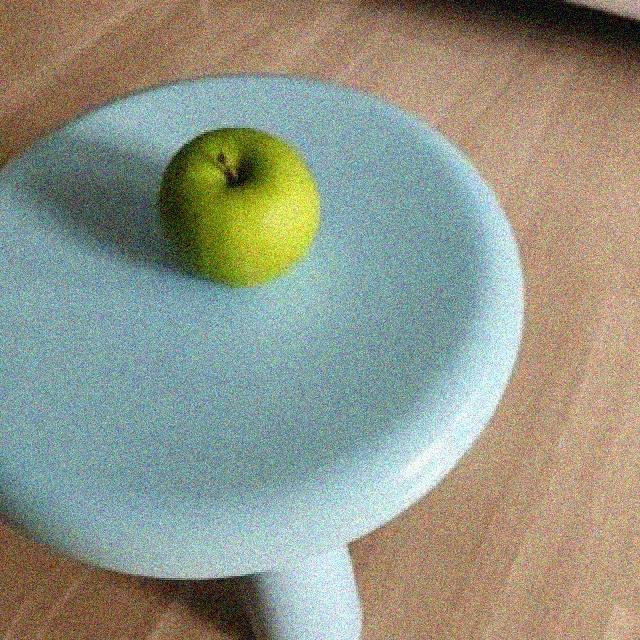green apple: (158, 127, 326, 290)
